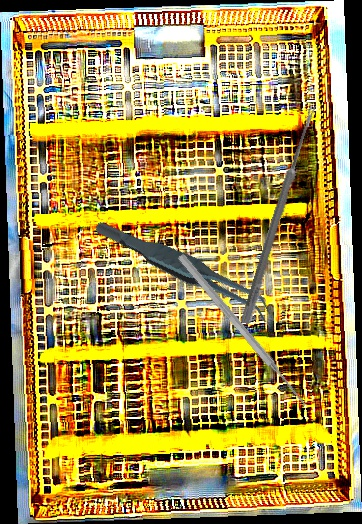Pusher: (175, 252, 311, 410)
Surgical Spoon: (240, 103, 318, 326)
Tissue Forceps: (92, 186, 278, 352)
